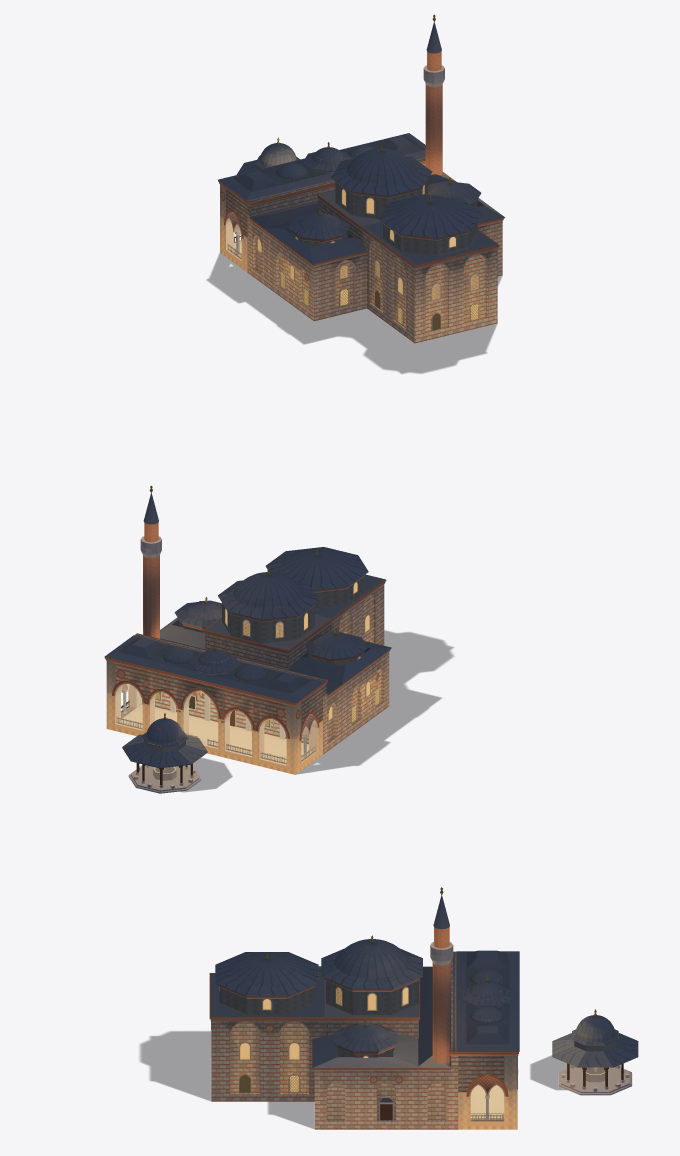
Rendered from orhan-bey-camii_v11_night_harita_pisik.glb.
3 renders of one model, top to bottom at view 1: azimuth 30°, elevation 25°; view 2: azimuth 150°, elevation 25°; view 3: azimuth 270°, elevation 25°, orthographic. The views are drawn at different scales.
Parts seen in each view (by area): view 1: Cami_Govde, Harita_Golge, Cami_Mihrap, Cami_SonCemaat, Kubbe_Mihrap, Kubbe_Ana, Cami_Ortu, Minare, Kubbe_Tabhaneler, Sadirvan; view 2: Cami_SonCemaat, Cami_Govde, Harita_Golge, Kubbe_Ana, Sadirvan, Kubbe_Mihrap, Cami_Ortu, Kubbe_Tabhaneler, Minare, Cami_Mihrap, Kubbe_Pencereler; view 3: Cami_Govde, Cami_SonCemaat, Cami_Mihrap, Kubbe_Ana, Kubbe_Mihrap, Harita_Golge, Cami_Ortu, Sadirvan, Minare, Kubbe_Tabhaneler, Kubbe_Pencereler.
Part boxes in pixels (<box>): Cami_Govde: <box>218,142,504,331</box>; Harita_Golge: <box>207,253,501,373</box>; Cami_Mihrap: <box>362,231,497,343</box>; Cami_SonCemaat: <box>218,133,425,272</box>; Kubbe_Mihrap: <box>379,194,481,255</box>; Kubbe_Ana: <box>331,148,432,218</box>; Cami_Ortu: <box>249,172,505,264</box>; Minare: <box>423,14,444,174</box>; Kubbe_Tabhaneler: <box>288,181,481,247</box>; Sadirvan: <box>236,137,300,174</box>; Cami_SonCemaat: <box>104,635,324,774</box>; Cami_Govde: <box>104,574,390,760</box>; Harita_Golge: <box>181,630,453,792</box>; Kubbe_Ana: <box>218,572,318,643</box>; Sadirvan: <box>122,713,207,793</box>; Kubbe_Mihrap: <box>265,547,368,607</box>; Cami_Ortu: <box>160,575,391,694</box>; Kubbe_Tabhaneler: <box>174,600,367,666</box>; Minare: <box>140,485,161,638</box>; Cami_Mihrap: <box>331,584,384,645</box>; Kubbe_Pencereler: <box>205,549,360,659</box>; Cami_Govde: <box>209,951,518,1129</box>; Cami_SonCemaat: <box>456,950,519,1129</box>; Cami_Mihrap: <box>211,1021,325,1101</box>; Kubbe_Ana: <box>321,939,422,1014</box>; Kubbe_Mihrap: <box>215,952,318,1015</box>; Harita_Golge: <box>140,1031,566,1128</box>; Cami_Ortu: <box>211,966,450,1067</box>; Sadirvan: <box>552,1009,638,1095</box>; Minare: <box>430,887,453,1063</box>; Kubbe_Tabhaneler: <box>334,1023,397,1057</box>; Kubbe_Pencereler: <box>219,935,419,1057</box>.
Bounding box in the file's own units: 47.65 × 28.65 × 71.28.
2 materials, 2 textured.
